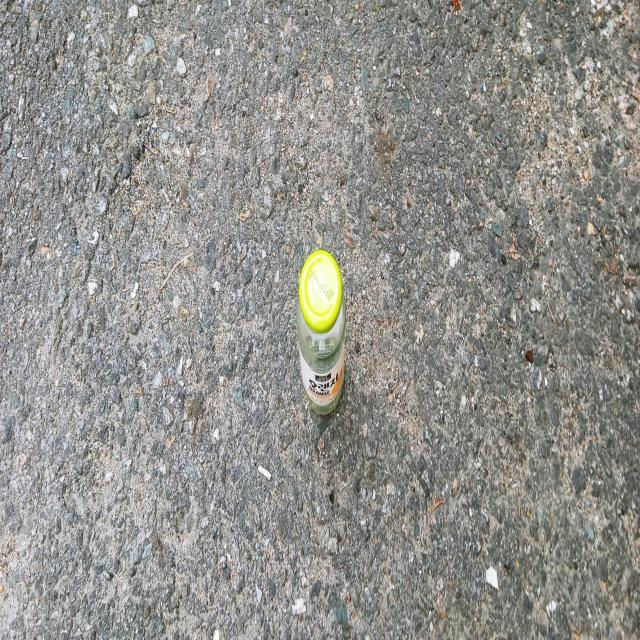glass: (296, 248, 346, 415)
